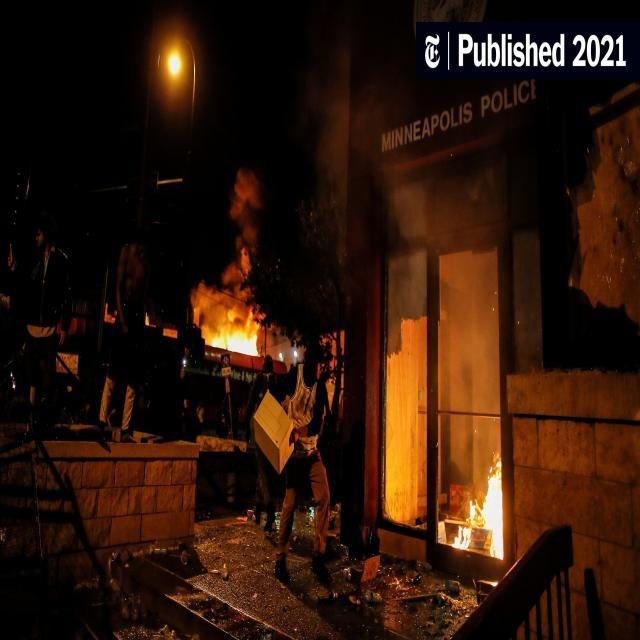Fire: (452, 448, 506, 562), (212, 307, 264, 357)
Smoke: (443, 260, 500, 439), (231, 166, 259, 298), (322, 98, 352, 216), (189, 274, 229, 340), (386, 186, 426, 242)
